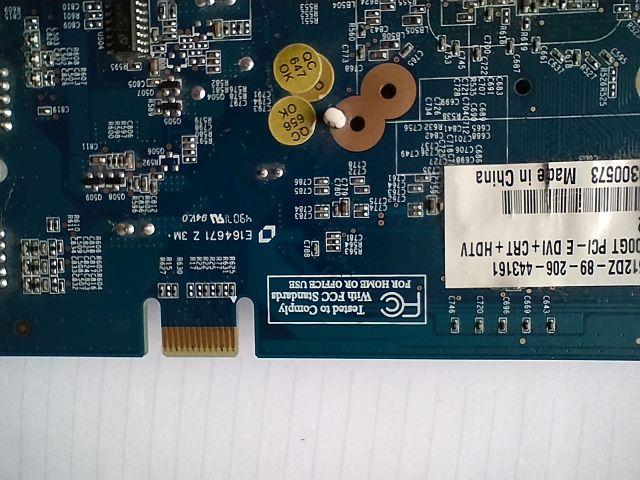capacitor: (539, 312, 566, 344), (300, 232, 328, 261), (445, 308, 465, 339), (448, 311, 466, 336), (472, 317, 491, 340)
resistor: (324, 241, 345, 250)
